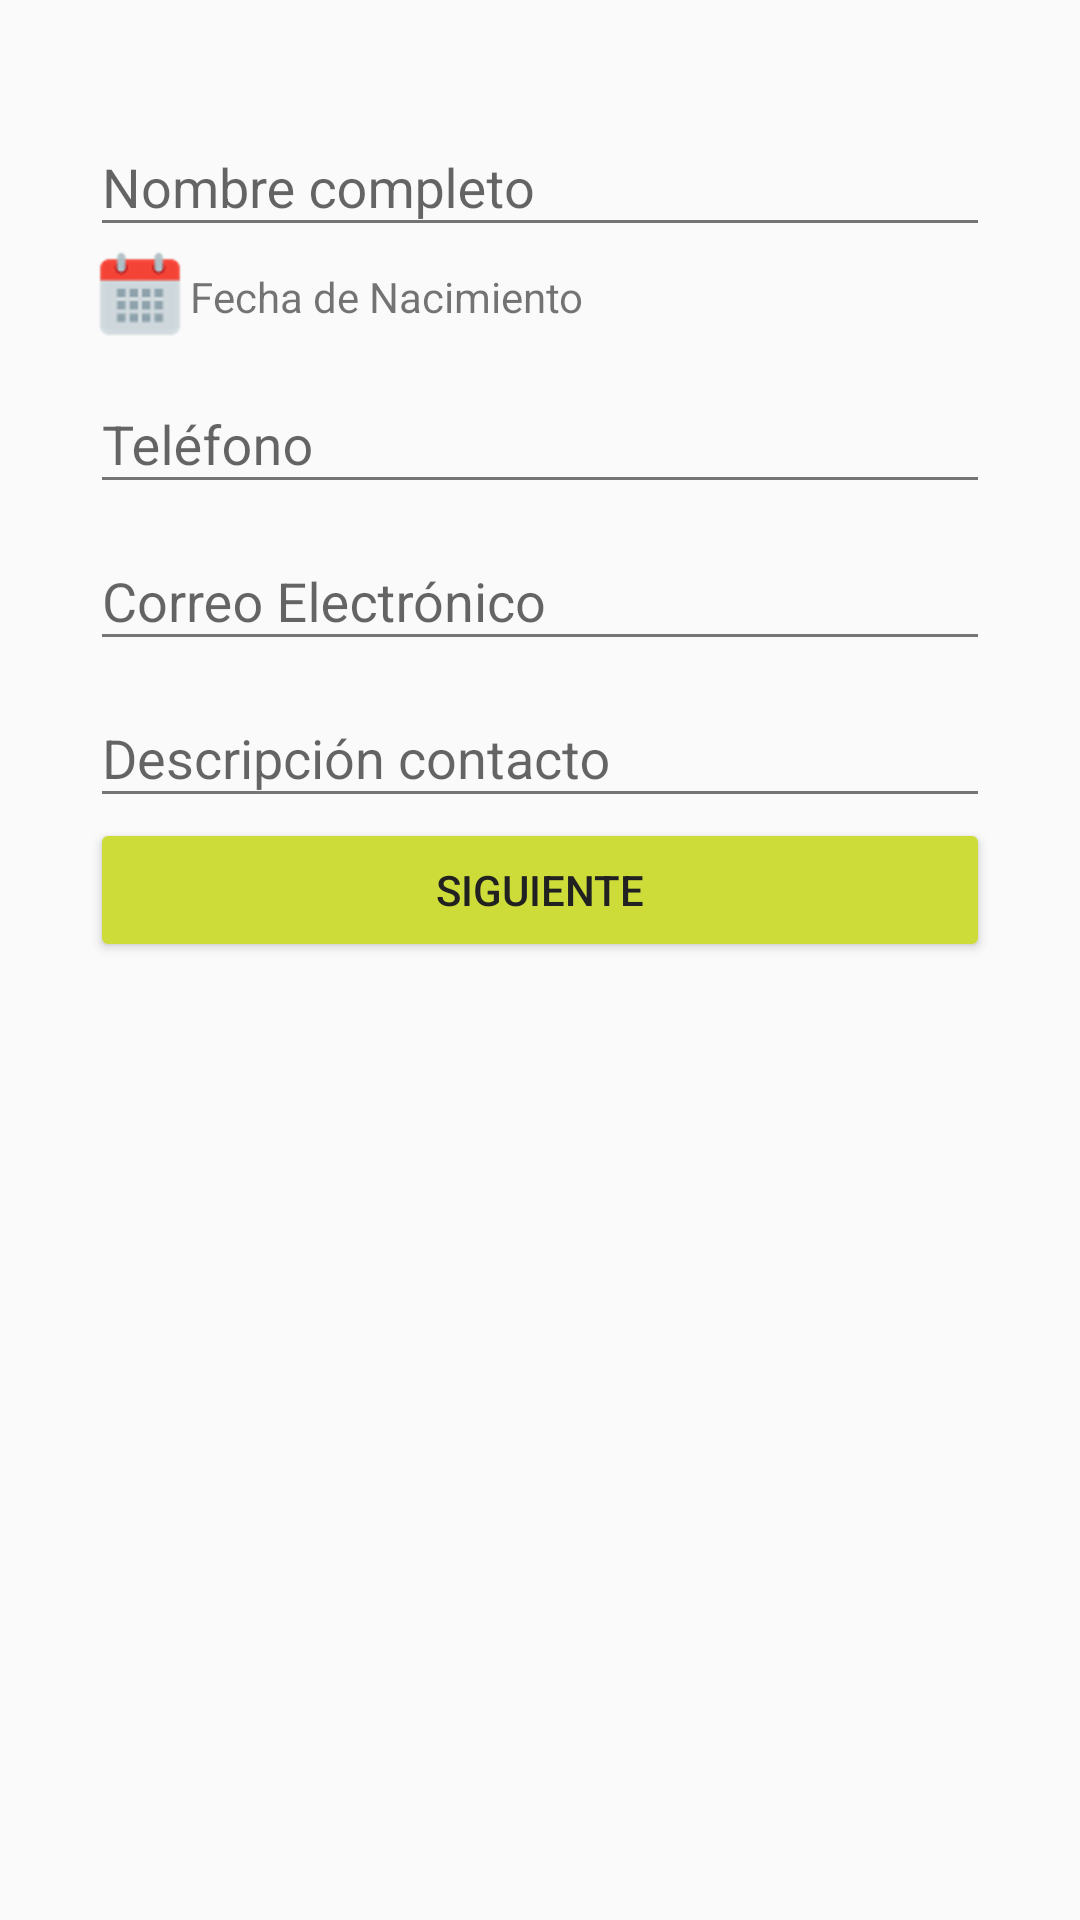

Locate icon controls on the screen. Image size 1080px×1920px, boxes as (x1, y1, x2, y2).
calendar: (99, 253, 181, 334)
